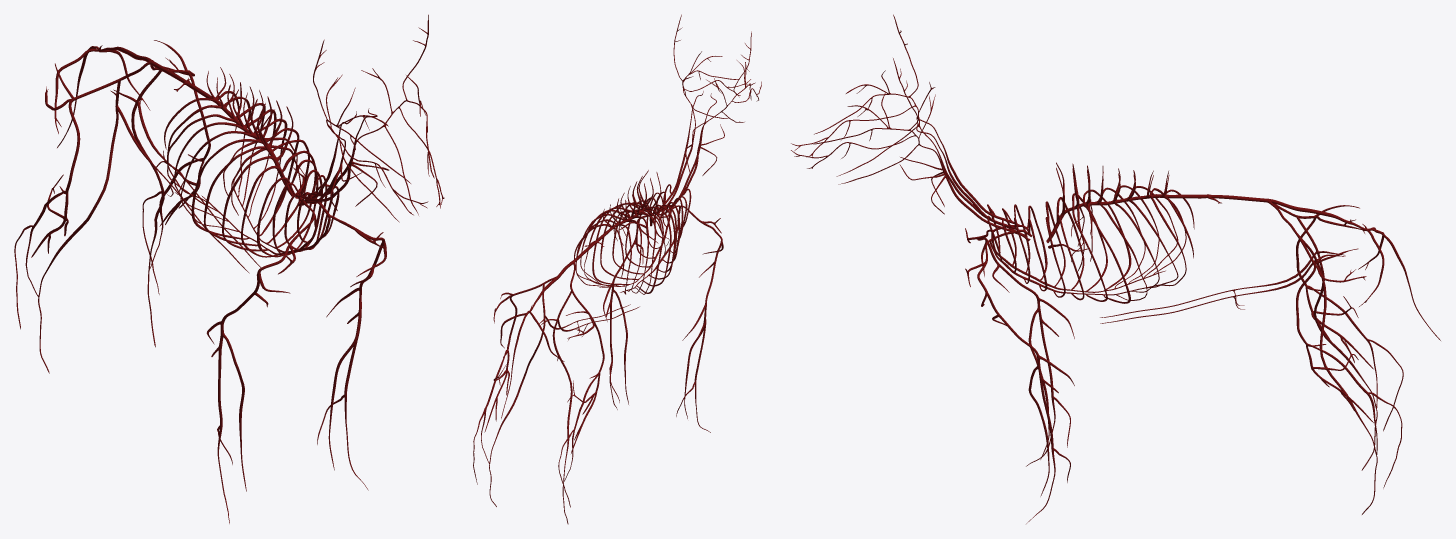
Rendered from Arteries.fbx.
The picture shows the model from 3 angles, left to right: view 1: azimuth 30°, elevation 25°; view 2: azimuth 150°, elevation 25°; view 3: azimuth 270°, elevation 25°; orthographic projection. The views are drawn at different scales.
Visible parts, largest first — view 1: Arteries; view 2: Arteries; view 3: Arteries.
Boxes of the visible parts, x1,y1,x2,y2 form: Arteries: (14, 14, 444, 523); Arteries: (473, 14, 761, 524); Arteries: (791, 14, 1440, 523).
Size of the model in its own units: 42.42 by 153 by 196.
